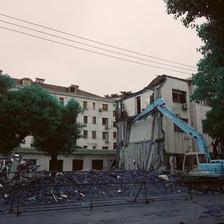Destroyed_Building: (0, 73, 220, 172)
